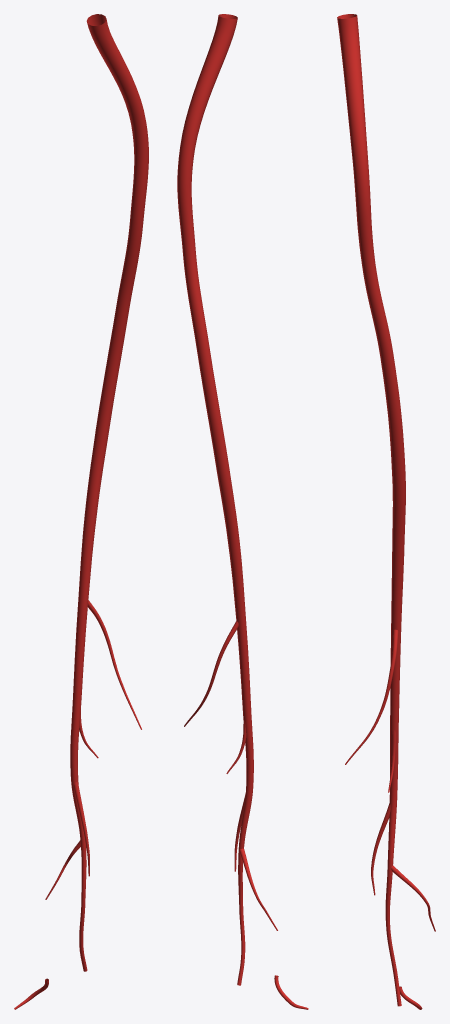
File: circulatorio-fibular-artery-l.glb
The picture shows the model from 3 angles, left to right: view 1: azimuth 30°, elevation 25°; view 2: azimuth 210°, elevation 25°; view 3: azimuth 270°, elevation 25°; orthographic projection. The views are drawn at different scales.
Visible parts, largest first — view 1: Fibular artery.l; view 2: Fibular artery.l; view 3: Fibular artery.l.
Part boxes in pixels (x1=…): Fibular artery.l: x1=45, y1=14, x2=148, y2=971; Fibular artery.l: x1=177, y1=14, x2=277, y2=985; Fibular artery.l: x1=337, y1=14, x2=435, y2=1006.
Bounding box in the file's own units: 0.0361 × 0.331 × 0.0291.
